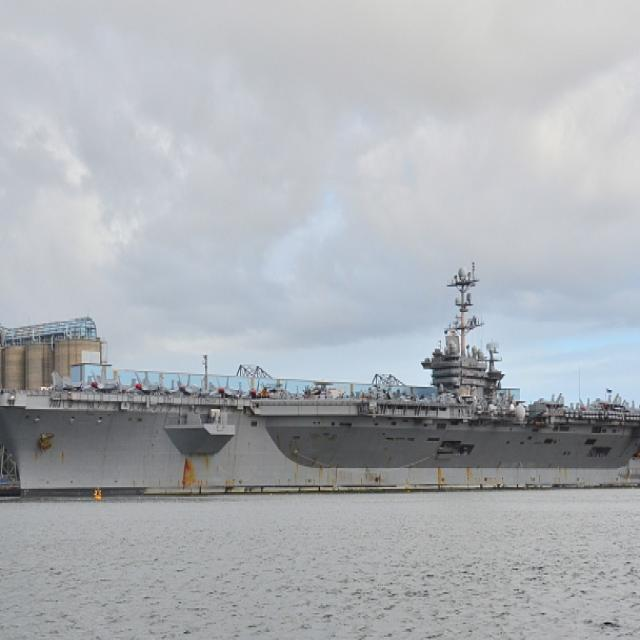Portanaves: (1, 243, 640, 502)
